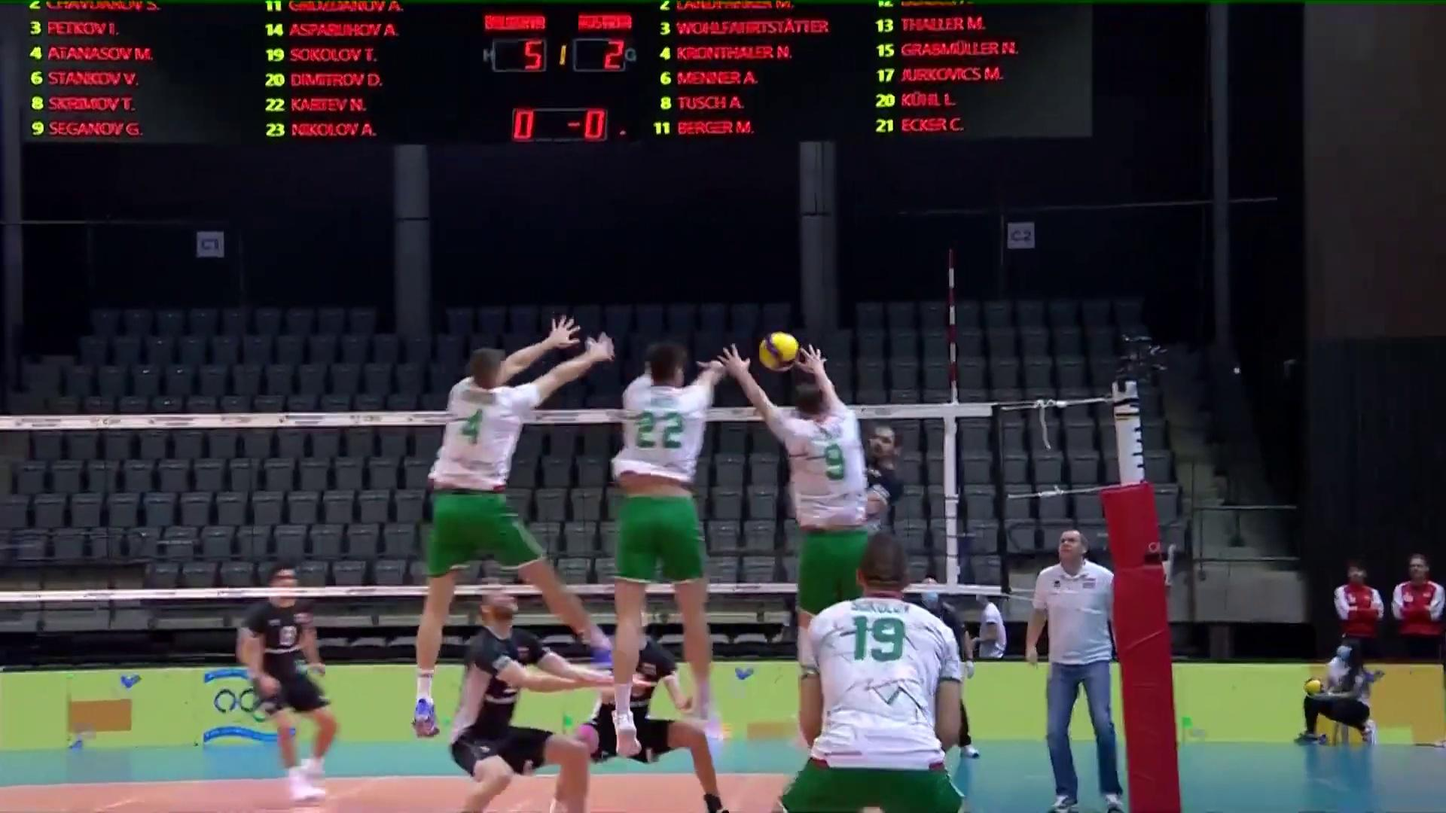ball: (757, 332, 801, 375)
